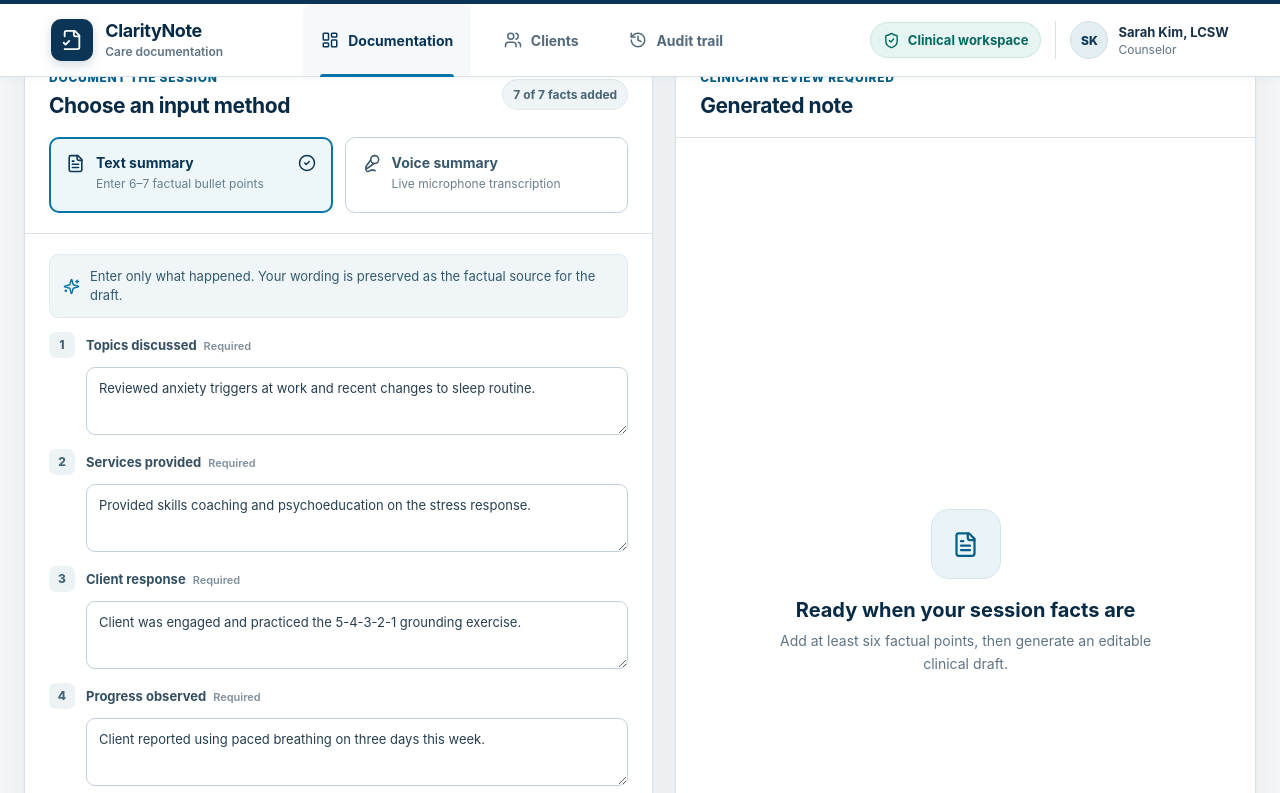
Scenario: clinical documentation workspace › does not carry edited facts from one client into another client
(page scrolled)
Replace the text in the text box labelled "Topics discussed" with "Client-specific synthetic text that must not cross records." at (357, 401), box x1=86 y1=367 x2=628 y2=435
(page scrolled)
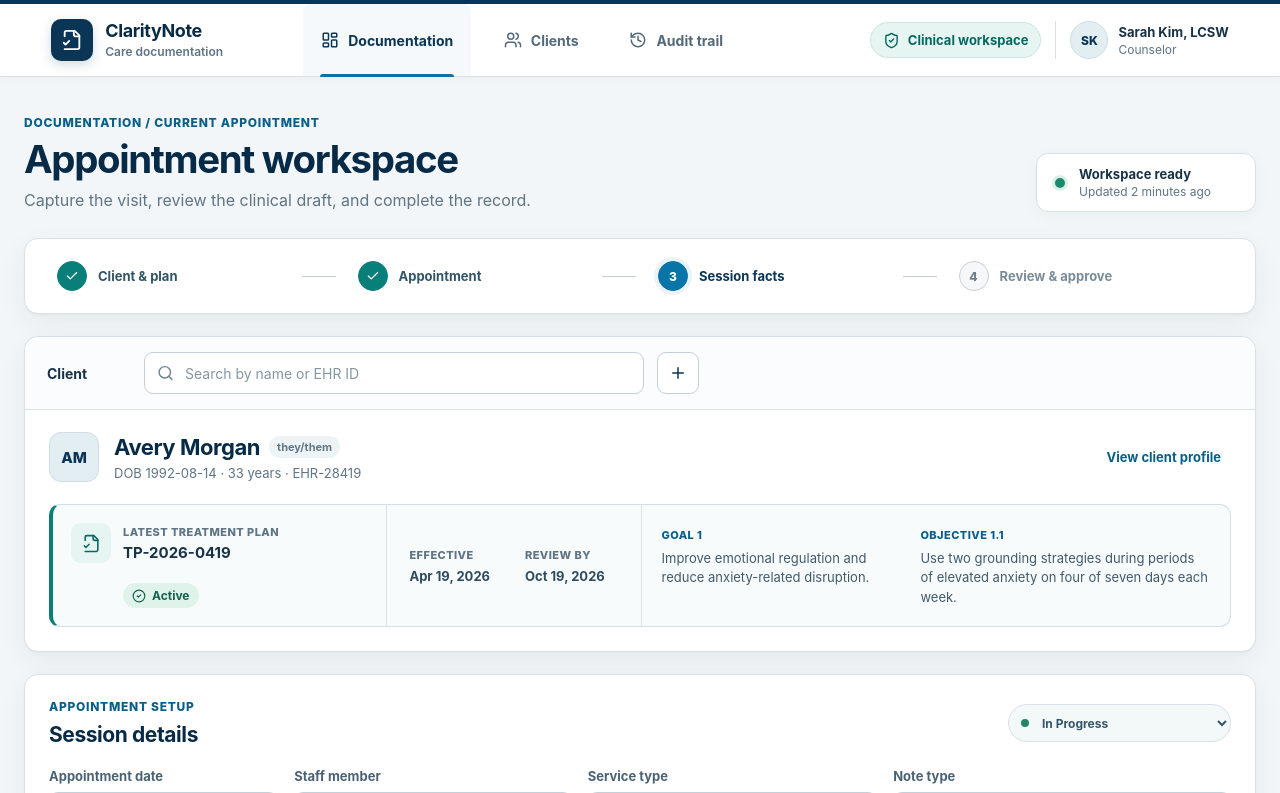
Click the field labelled "Client" at (394, 373), box x1=144 y1=352 x2=644 y2=394
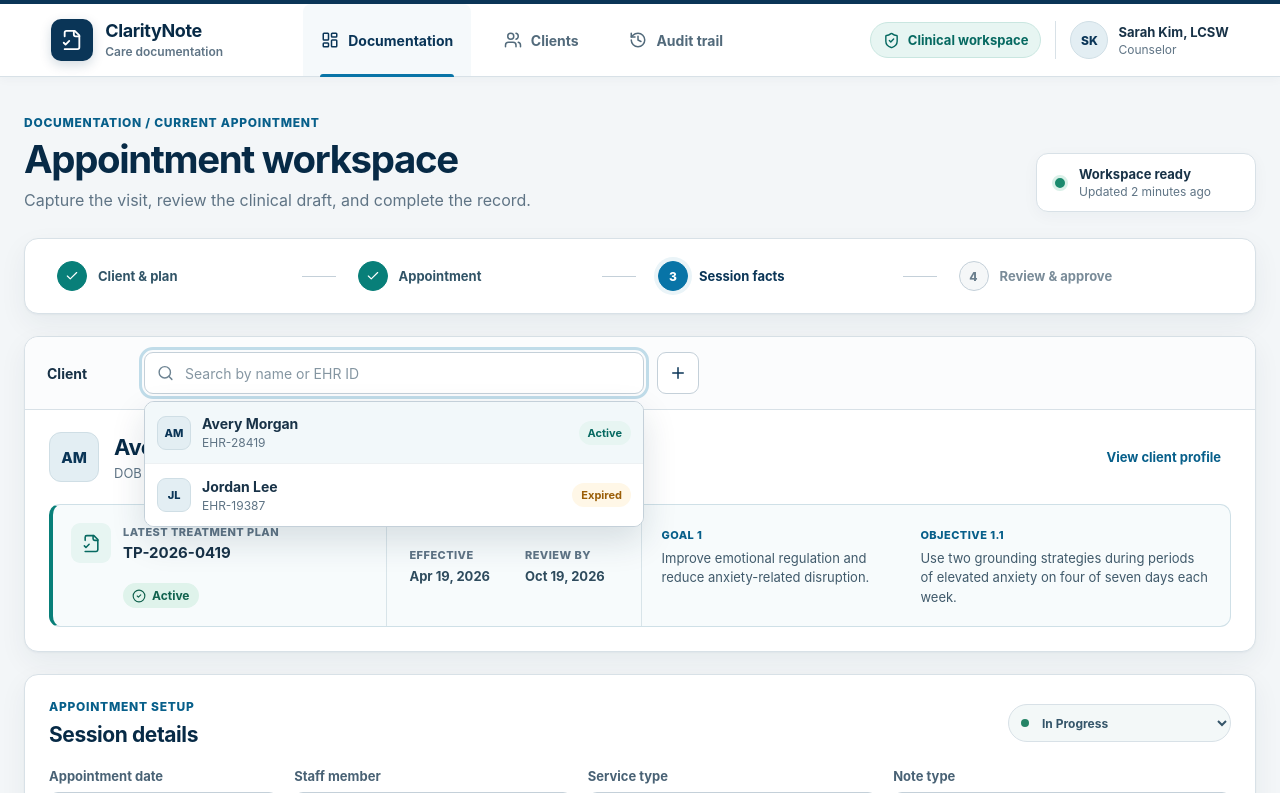
Click the option "JL Jordan Lee EHR-19387 expired" at (174, 495), box x1=145 y1=464 x2=643 y2=526
(page scrolled)
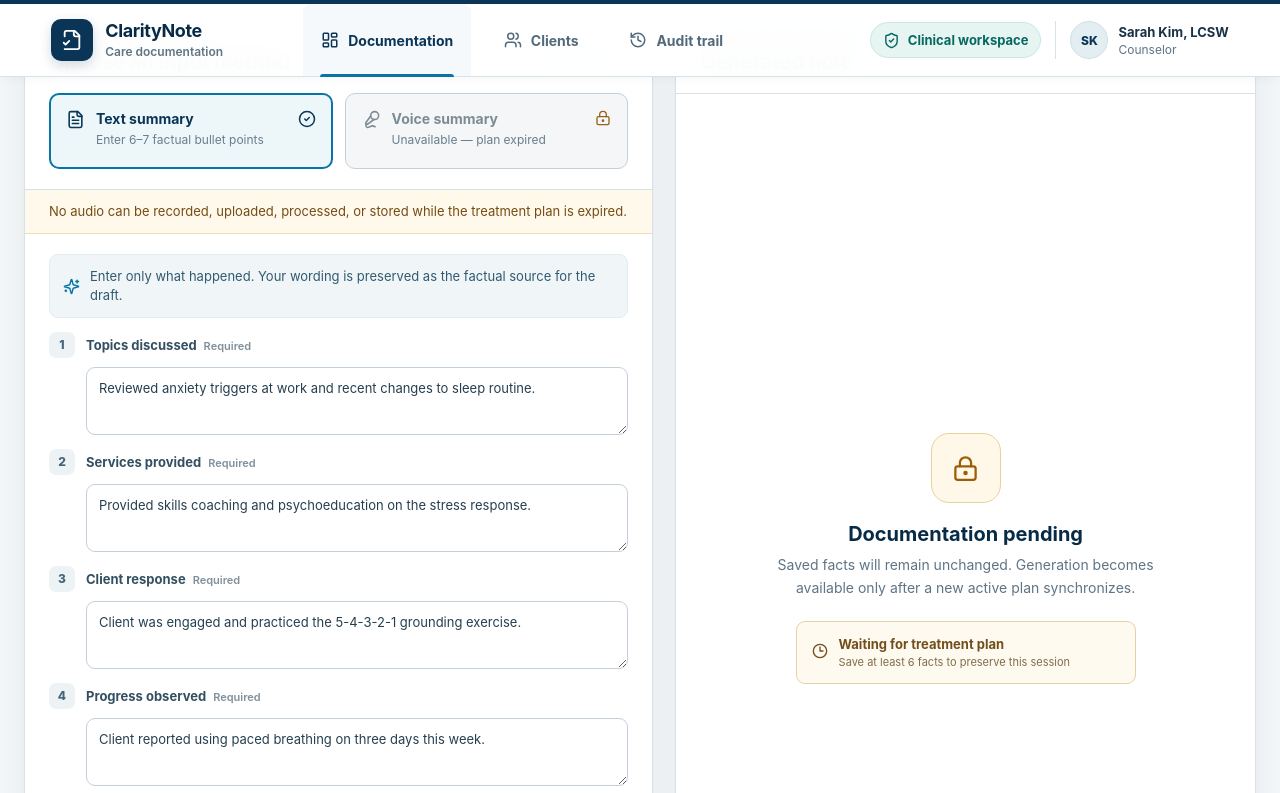
expect the text box labelled "Topics discussed" holds "Reviewed anxiety triggers at work and recent changes to sleep routine.": met, box x1=86 y1=367 x2=628 y2=435
